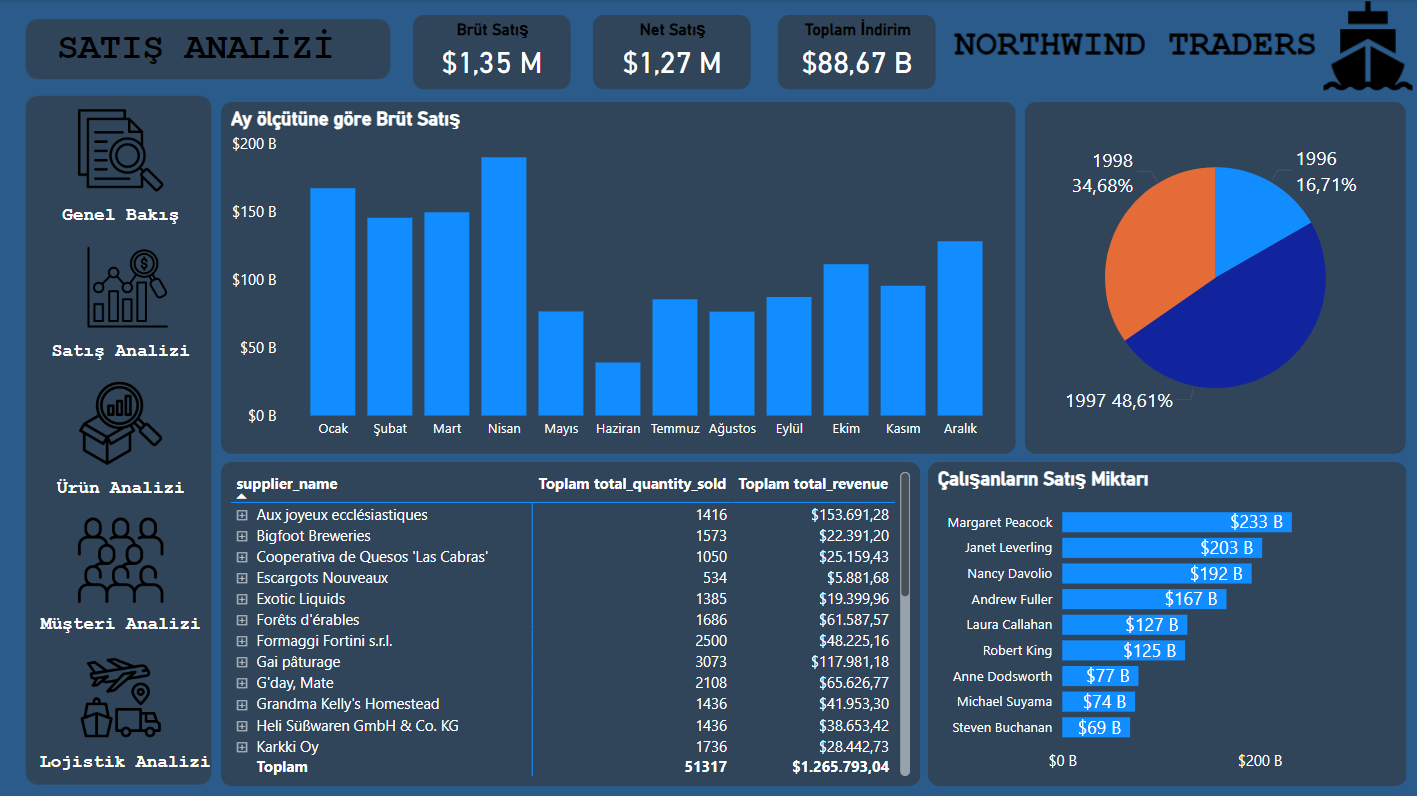

The page's visual inventory and layout, read from the dashboard file:
{"tool":"powerbi","page":{"name":"SATIŞ ANALİZİ","canvas":[1280,720],"ordinal":1},"visuals":[{"type":"textbox","box":[37,21,282,54],"z":0},{"type":"image","box":[27,586,167,87],"z":1000},{"type":"image","box":[27,462,167,87],"z":2000},{"type":"image","box":[33.8,216,167.7,86.9],"z":3000},{"type":"image","box":[27,93,167,87],"z":4000},{"type":"image","box":[27,339,167,87],"z":5000},{"type":"textbox","box":[27,673,175,36],"z":6000},{"type":"textbox","box":[27,549,167,36],"z":7000},{"type":"textbox","box":[27,426,167,36],"z":8000},{"type":"textbox","box":[27,303,167,36],"z":9000},{"type":"textbox","box":[27,180,167,36],"z":10000},{"type":"clusteredColumnChart","fields":{"Category":["orders.order_date.Varyasyon.Tarih Hiyerarşisi.Ay"],"Y":["Hesaplamalar(Dax).Brüt Satış"]},"box":[201.3,93.1,716.5,316.6],"z":11000},{"type":"pieChart","fields":{"Category":["orders.order_date.Varyasyon.Tarih Hiyerarşisi.Yıl"],"Y":["Hesaplamalar(Dax).Brüt Satış"]},"box":[925.7,93.1,343.2,316.6],"z":12000},{"type":"clusteredBarChart","title":"Çalışanların Satış Miktarı","fields":{"Category":["Çalışan satış analizi.employee_name"],"Y":["Çalışan satış analizi.total_sales"]},"box":[837.9,417.6,430.9,291.7],"z":13000},{"type":"pivotTable","fields":{"Rows":["Sorgu1.supplier_name","Sorgu1.product_name"],"Values":["Sorgu1.total_quantity_sold","Sorgu1.total_revenue"]},"box":[201.3,417.6,629.6,291.7],"z":14000},{"type":"card","title":"Brüt Satış","fields":{"Values":["Hesaplamalar.Brüt Satış"]},"box":[374.2,14.2,141.9,67.4],"z":15000},{"type":"card","title":"Net Satış","fields":{"Values":["Hesaplamalar.Net Satış"]},"box":[536.5,14.2,141.9,67.4],"z":16000},{"type":"card","title":"Toplam İndirim","fields":{"Values":["Hesaplamalar(Dax).Toplam İndirim Tutarı"]},"box":[703.2,14.2,141.9,67.4],"z":17000}]}

Visuals, with their boxes in screenshot pixels (x1, y1, x2, y2), scaled from the page's 1280x720 canvas onto the 1417x796 screenshot:
textbox: rect(41, 23, 353, 83)
image: rect(30, 648, 215, 744)
image: rect(30, 511, 215, 607)
image: rect(37, 239, 223, 335)
image: rect(30, 103, 215, 199)
image: rect(30, 375, 215, 471)
textbox: rect(30, 744, 224, 784)
textbox: rect(30, 607, 215, 647)
textbox: rect(30, 471, 215, 511)
textbox: rect(30, 335, 215, 375)
textbox: rect(30, 199, 215, 239)
clusteredColumnChart - orders.order_date.Varyasyon.Tarih Hiyerarşisi.Ay x Hesaplamalar(Dax).Brüt Satış: rect(223, 103, 1016, 453)
pieChart - orders.order_date.Varyasyon.Tarih Hiyerarşisi.Yıl x Hesaplamalar(Dax).Brüt Satış: rect(1025, 103, 1405, 453)
"Çalışanların Satış Miktarı" clusteredBarChart: rect(928, 462, 1405, 784)
pivotTable - Sorgu1.supplier_name x Sorgu1.product_name: rect(223, 462, 920, 784)
"Brüt Satış" card: rect(414, 16, 571, 90)
"Net Satış" card: rect(594, 16, 751, 90)
"Toplam İndirim" card: rect(778, 16, 936, 90)
